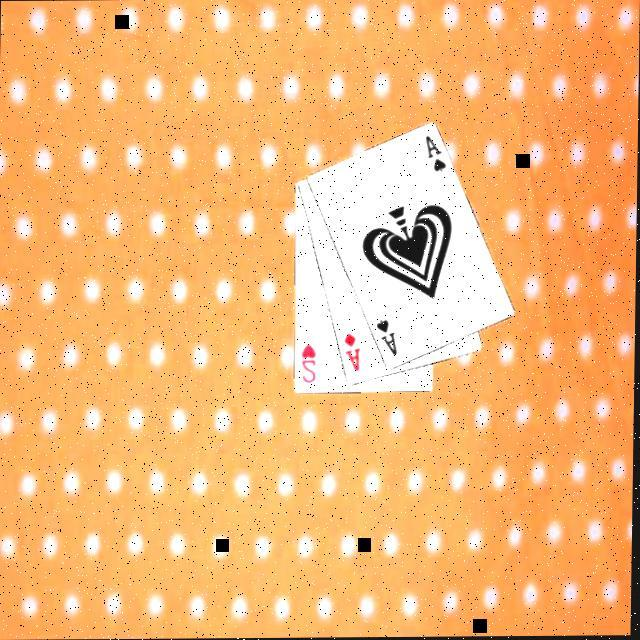2H: (297, 343, 318, 388)
AD: (339, 332, 362, 376)
AS: (419, 133, 447, 176), (371, 318, 399, 360)
